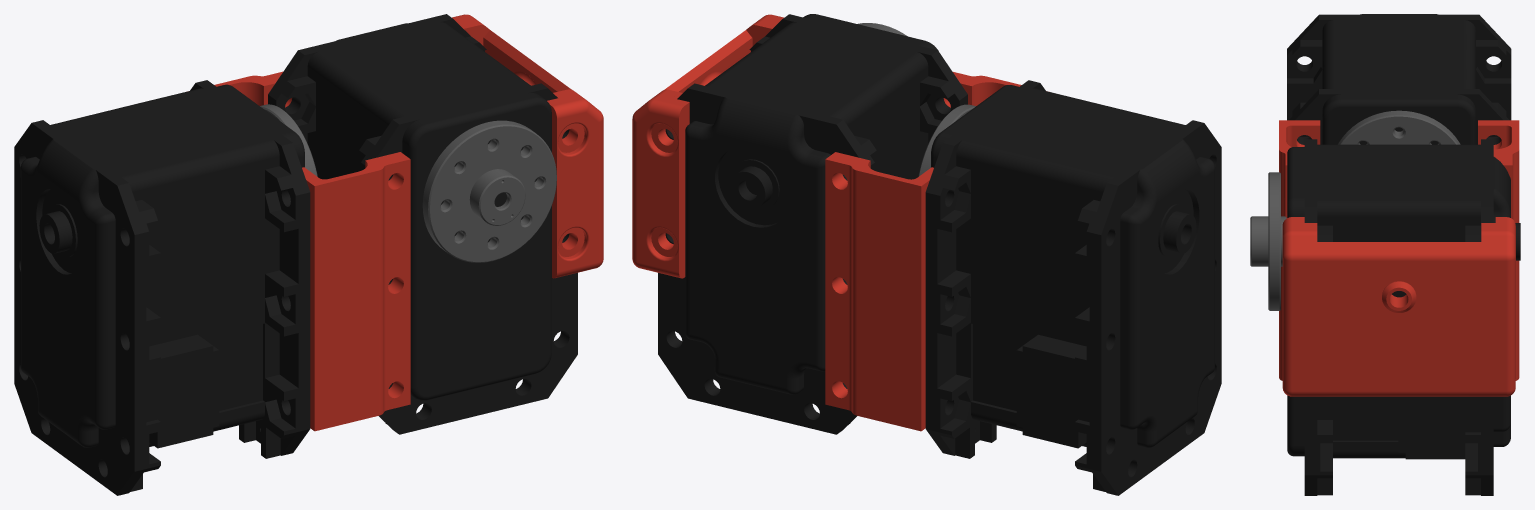
The model's file is right_hip_front.dae.
The picture shows the model from 3 angles, left to right: view 1: azimuth 30°, elevation 25°; view 2: azimuth 150°, elevation 25°; view 3: azimuth 270°, elevation 25°; orthographic projection. The views are drawn at different scales.
Visible parts, largest first — view 1: Body1_Paint_-_Metallic_(Black) (×2), Body1_Paint_-_Metallic_(Red) (×3), Body1_Paint_-_Metallic_(Dark_Grey) (×2); view 2: Body1_Paint_-_Metallic_(Black) (×2), Body1_Paint_-_Metallic_(Red) (×3), Body1_Paint_-_Metallic_(Dark_Grey); view 3: Body1_Paint_-_Metallic_(Black) (×2), Body1_Paint_-_Metallic_(Red) (×3), Body1_Paint_-_Metallic_(Dark_Grey) (×2).
Boxes of the visible parts, x1,y1,x2,y2 form: Body1_Paint_-_Metallic_(Black) (×2): (14,14,577,495); Body1_Paint_-_Metallic_(Red) (×3): (214,14,603,431); Body1_Paint_-_Metallic_(Dark_Grey) (×2): (260,104,556,262); Body1_Paint_-_Metallic_(Black) (×2): (658,14,1221,495); Body1_Paint_-_Metallic_(Red) (×3): (632,14,1049,431); Body1_Paint_-_Metallic_(Dark_Grey): (918,104,975,176); Body1_Paint_-_Metallic_(Black) (×2): (1287,14,1520,495); Body1_Paint_-_Metallic_(Red) (×3): (1279,120,1519,396); Body1_Paint_-_Metallic_(Dark_Grey) (×2): (1250,110,1460,310).
Size of the model in its own units: 0.0854 by 0.0428 by 0.0506.
